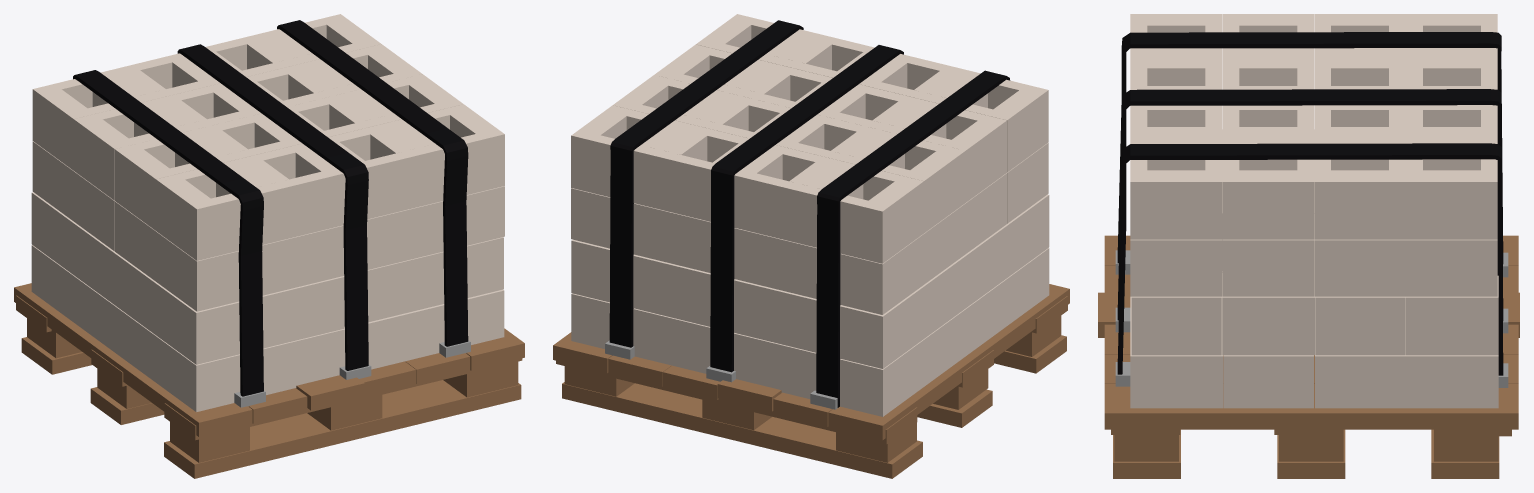
3 renders of one model, left to right at view 1: azimuth 30°, elevation 25°; view 2: azimuth 150°, elevation 25°; view 3: azimuth 270°, elevation 25°, orthographic. The views are drawn at different scales.
Parts seen in each view (by area): view 1: Куб.052; view 2: Куб.052; view 3: Куб.052.
Part boxes in pixels (x1,y1,x2,y2): Куб.052: [14, 14, 524, 478]; Куб.052: [553, 14, 1069, 478]; Куб.052: [1098, 14, 1519, 478].
Bounding box in the file's own units: 541 × 421 × 541.
